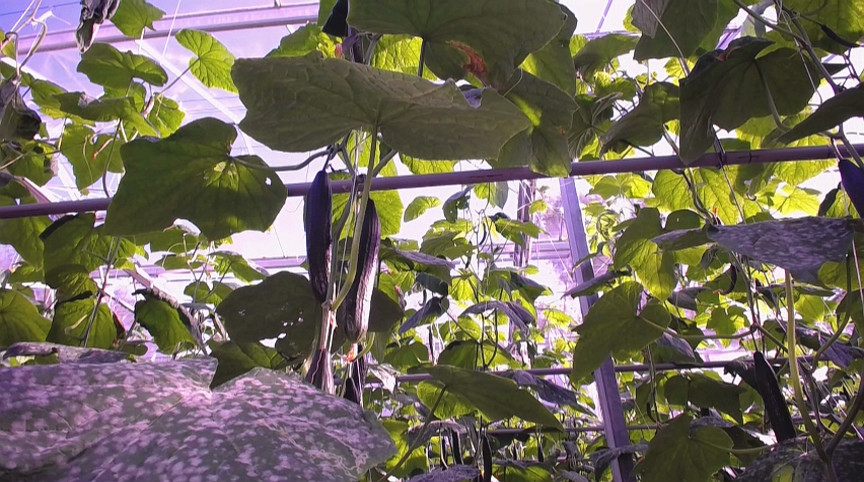cucumber: (344, 200, 382, 343), (752, 352, 797, 440), (303, 171, 332, 302)
